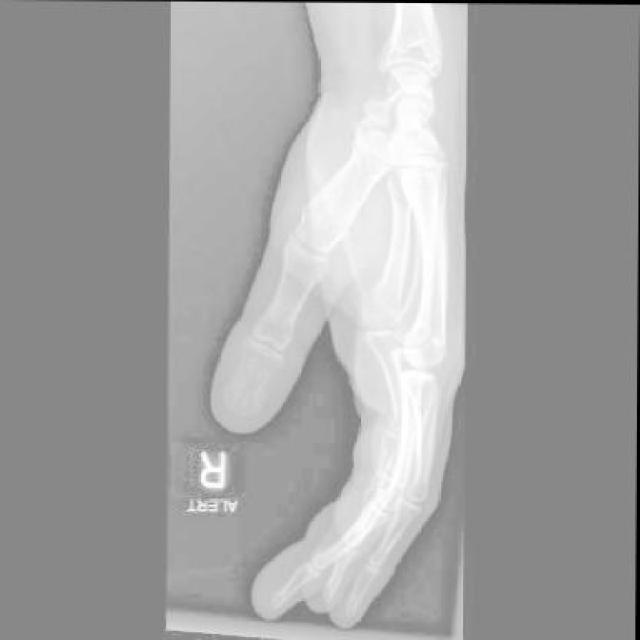Fracture: (223, 360, 276, 421)
